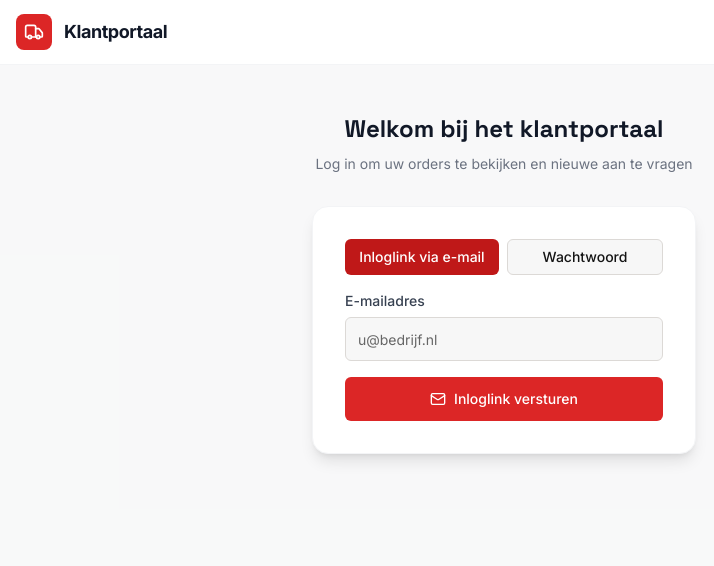
Scenario: ClientPortal › shows password input field after switching to password mode
The image size is (714, 566).
Click the button "Wachtwoord": point(585, 257) top-left (507, 239), bottom-right (663, 275)
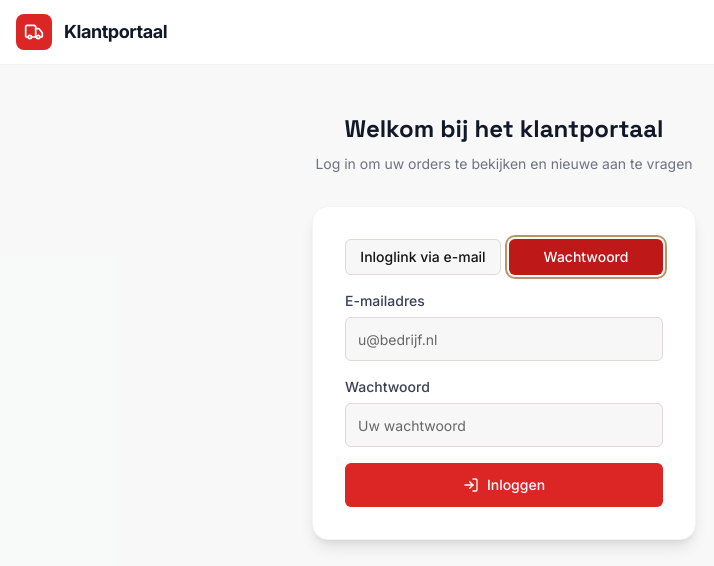
Expected: the password field with placeholder "Uw wachtwoord" is shown, top-left (345, 403), bottom-right (663, 447)
